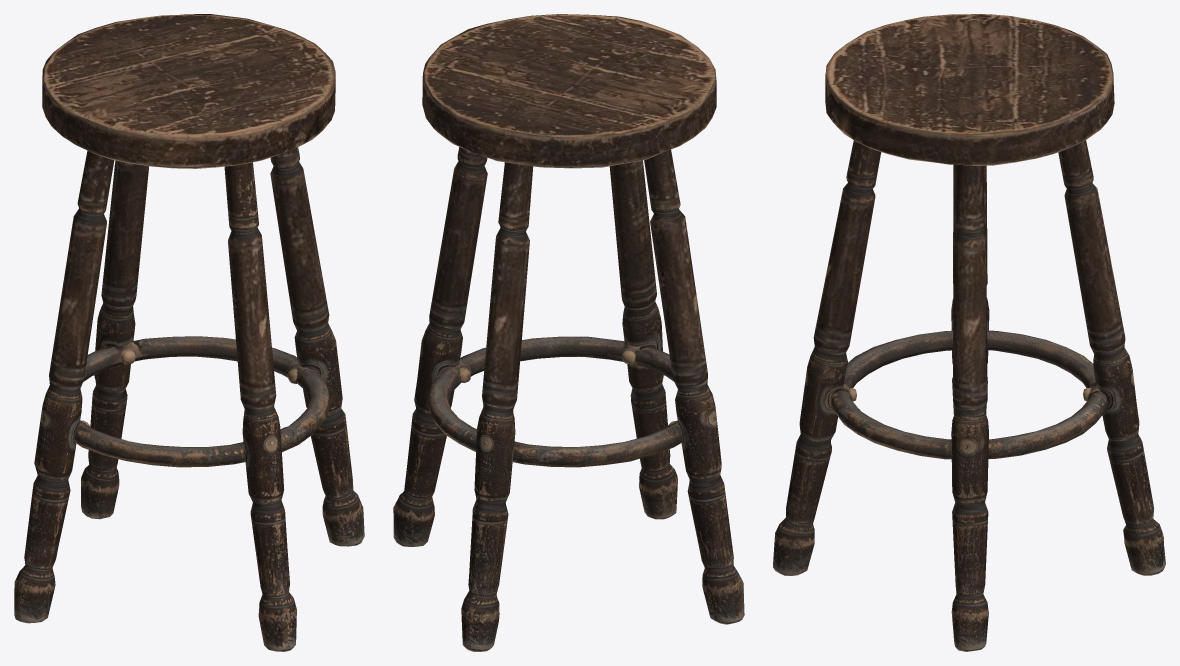
File: bar_stool.glb
3 views of the same model, side by side, from view 1: azimuth 30°, elevation 25°; view 2: azimuth 150°, elevation 25°; view 3: azimuth 270°, elevation 25° (orthographic).
Size of the model in its own units: 0.5391 by 0.75 by 0.5376.
Materials: 1 (1 with a texture image).
